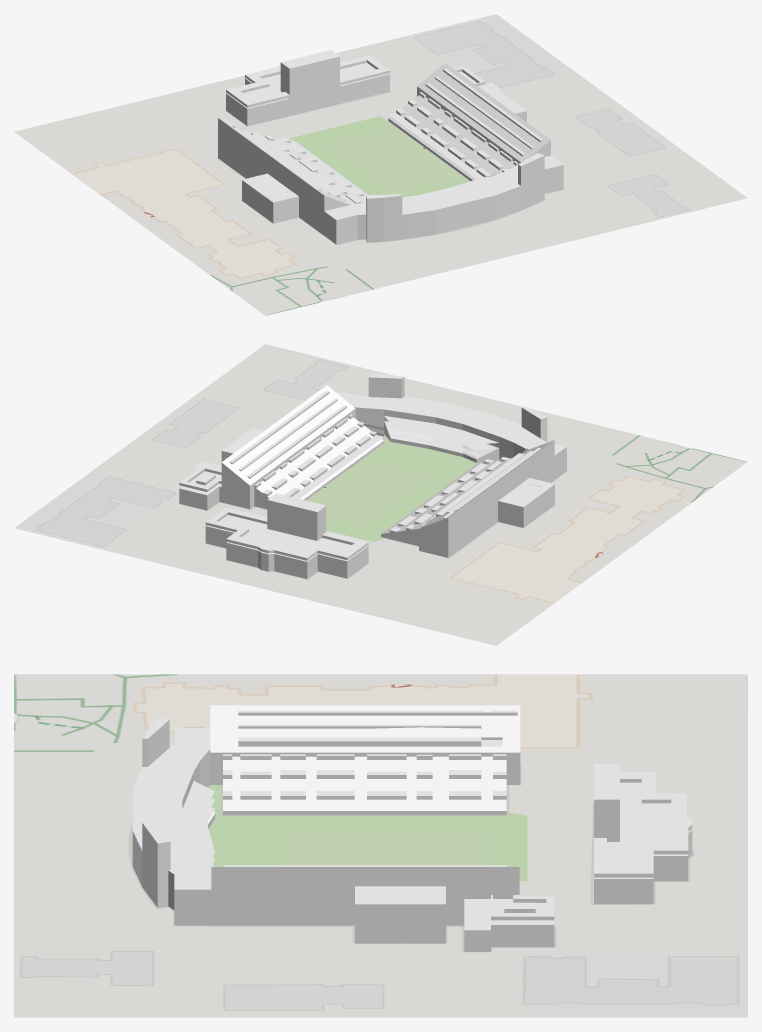
Rendered from USM_Stadium_FullModel.obj.
3 renders of one model, top to bottom at view 1: azimuth 30°, elevation 25°; view 2: azimuth 150°, elevation 25°; view 3: azimuth 270°, elevation 25°, orthographic. The views are drawn at different scales.
Parts seen in each view (by area): view 1: Mesh4 Model, Mesh1 Model, Mesh2 Model; view 2: Mesh4 Model, Mesh1 Model, Mesh2 Model; view 3: Mesh4 Model, Mesh1 Model, Mesh2 Model.
Boxes of the visible parts, x1,y1,x2,y2 form: Mesh4 Model: [14, 14, 747, 315]; Mesh1 Model: [218, 63, 563, 244]; Mesh2 Model: [226, 50, 389, 126]; Mesh4 Model: [14, 344, 747, 645]; Mesh1 Model: [179, 373, 566, 557]; Mesh2 Model: [205, 493, 368, 578]; Mesh4 Model: [14, 674, 747, 1017]; Mesh1 Model: [132, 705, 554, 951]; Mesh2 Model: [594, 764, 692, 904].
Bounding box in the file's own units: 1168 × 109 × 1055.
